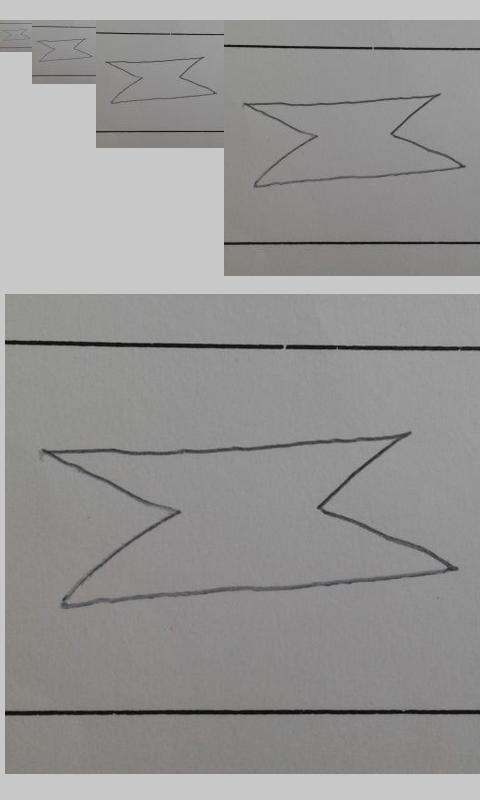edit_text: (41, 433, 456, 612), (244, 94, 466, 188), (106, 57, 217, 104), (37, 38, 92, 61), (2, 28, 30, 42)
